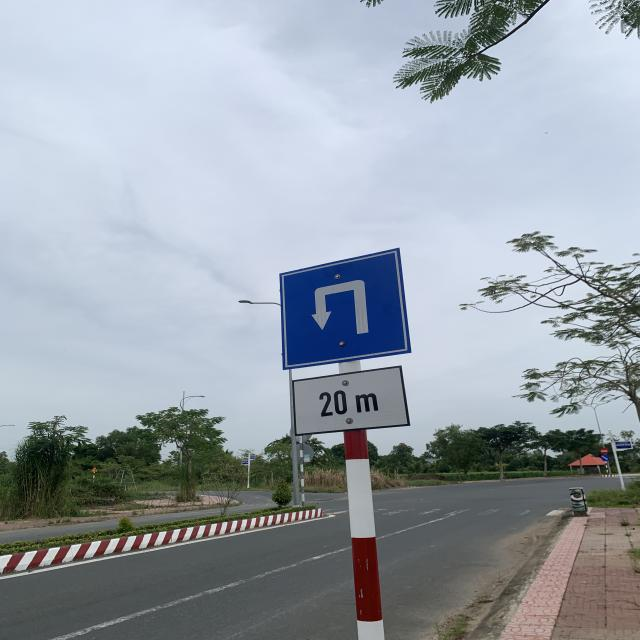Den_Giao_Thong: (278, 245, 411, 373)
